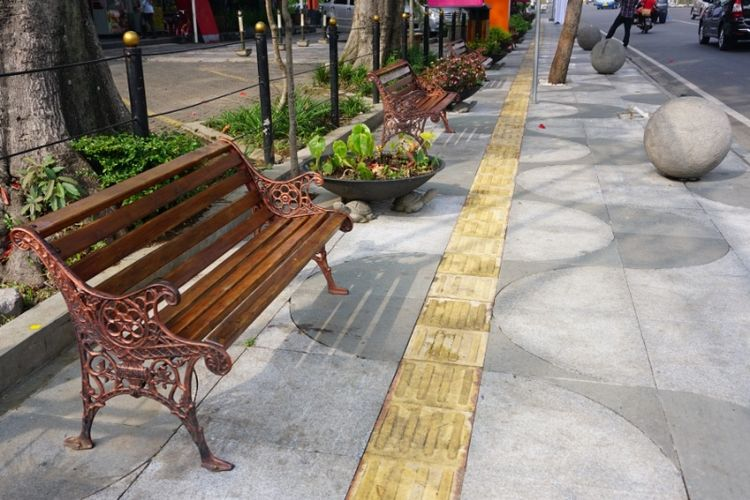bench: (5, 130, 356, 475)
